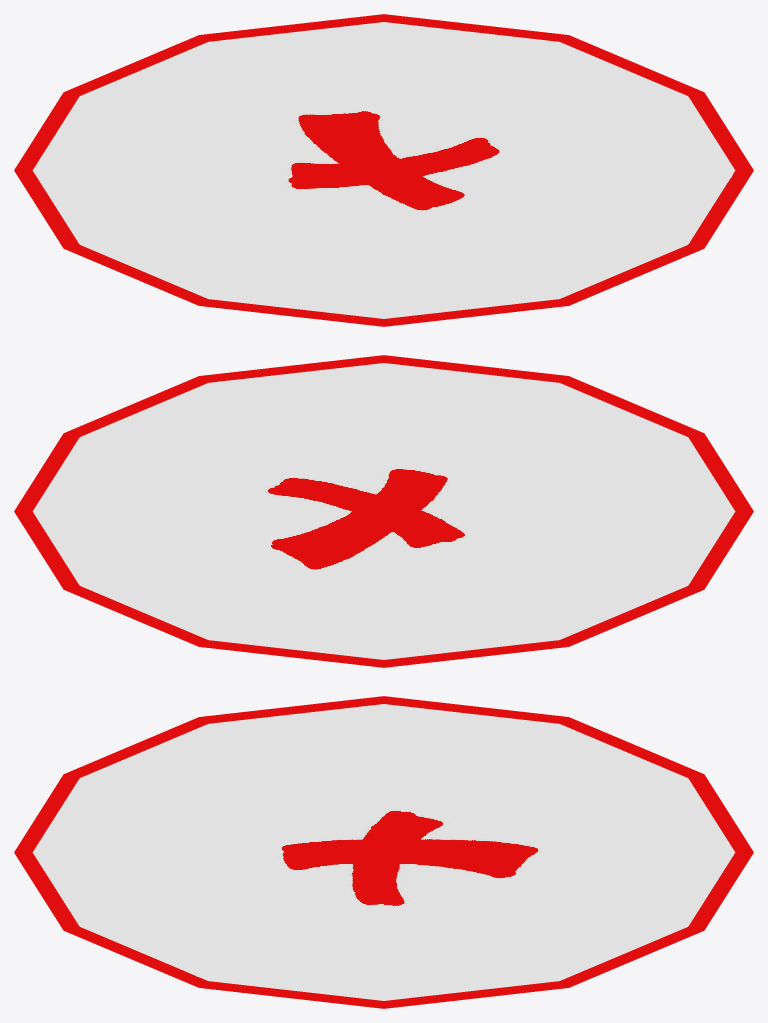
File: CircularVisual.FBX
3 renders of one model, top to bottom at view 1: azimuth 30°, elevation 25°; view 2: azimuth 150°, elevation 25°; view 3: azimuth 270°, elevation 25°, orthographic.
Visible parts, largest first — view 1: Sphere001; view 2: Sphere001; view 3: Sphere001.
Boxes of the visible parts, x1,y1,x2,y2 form: Sphere001: (14, 14, 753, 326); Sphere001: (14, 355, 753, 667); Sphere001: (14, 696, 753, 1008).
Size of the model in its own units: 200 by 7.81e-06 by 200.
Materials: 1 (1 with a texture image).
